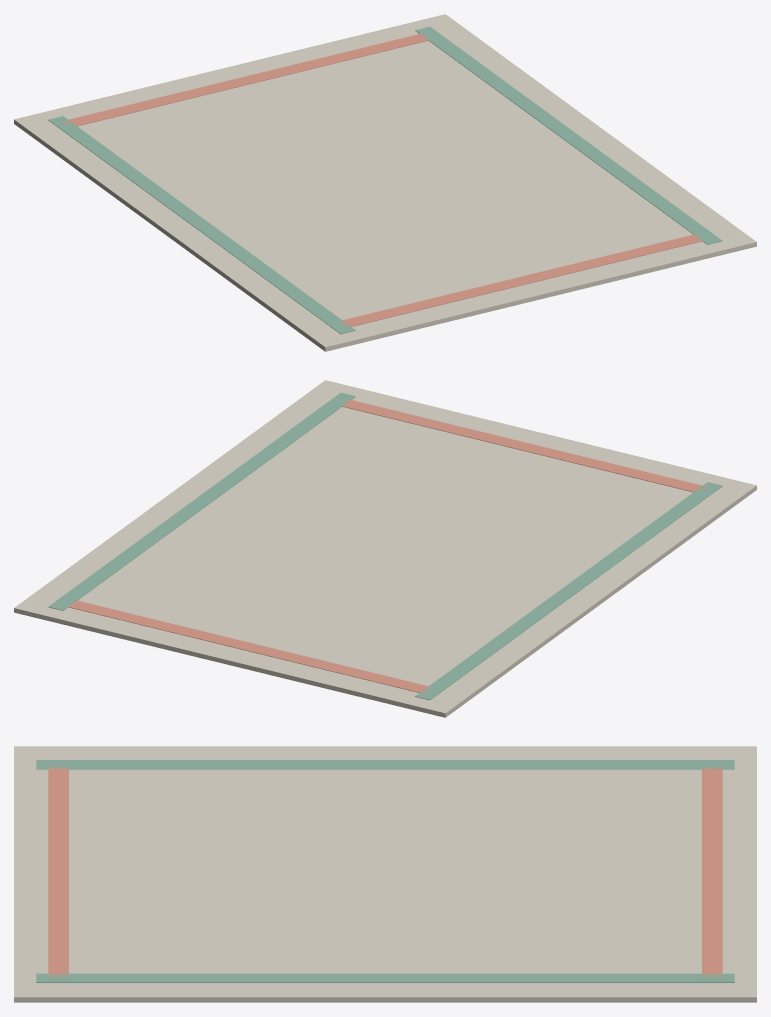
File: woven-rug.glb
3 views of the same model, one above another, from view 1: azimuth 30°, elevation 25°; view 2: azimuth 150°, elevation 25°; view 3: azimuth 270°, elevation 25° (orthographic). The views are drawn at different scales.
Size of the model in its own units: 2 by 0.022 by 2.5.
